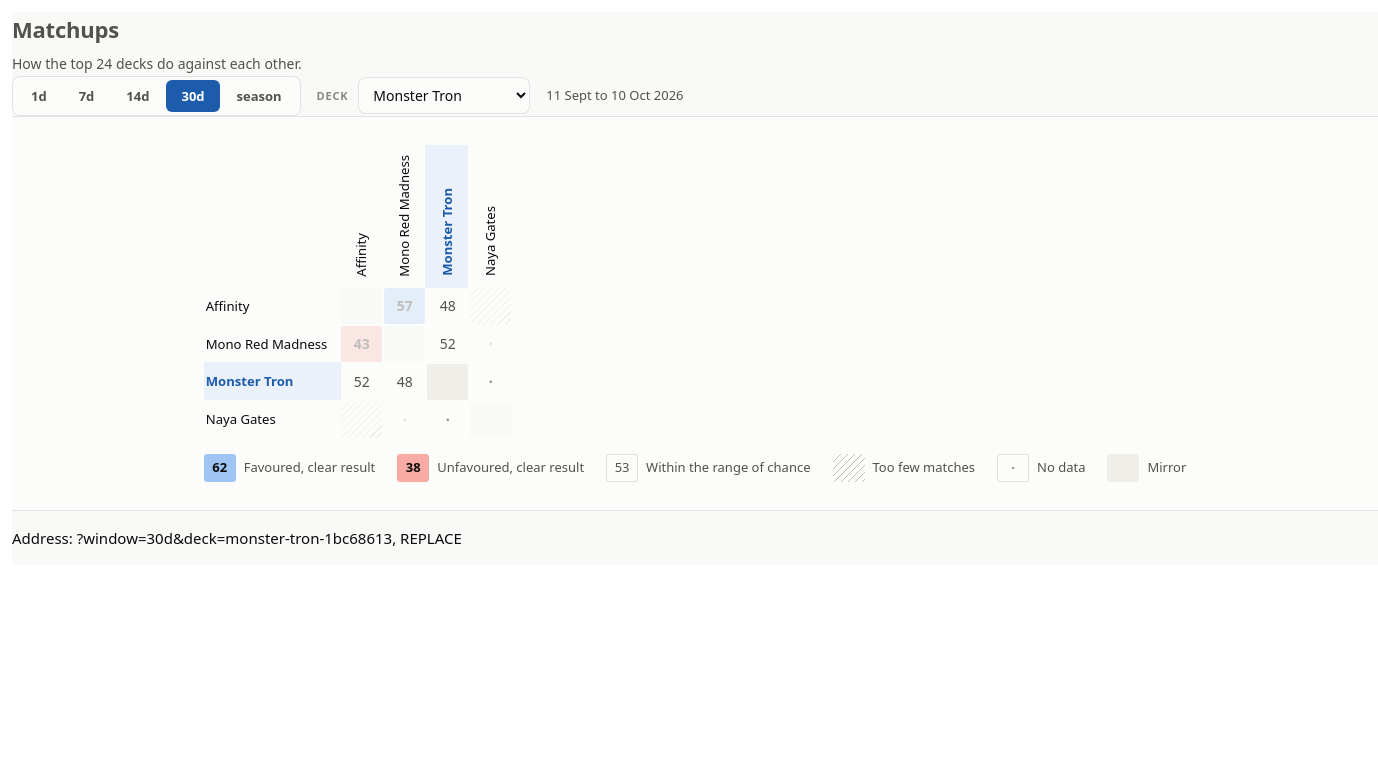
MatchupsPage › keeps the deck through a window change, without revealing it again
This screenshot has width=1378, height=780.
Check: the text "11 Sept to 10 Oct 2026" is shown, box [546,85,684,106]
Click the button "7d": x=87, y=96 [64,80,109,112]
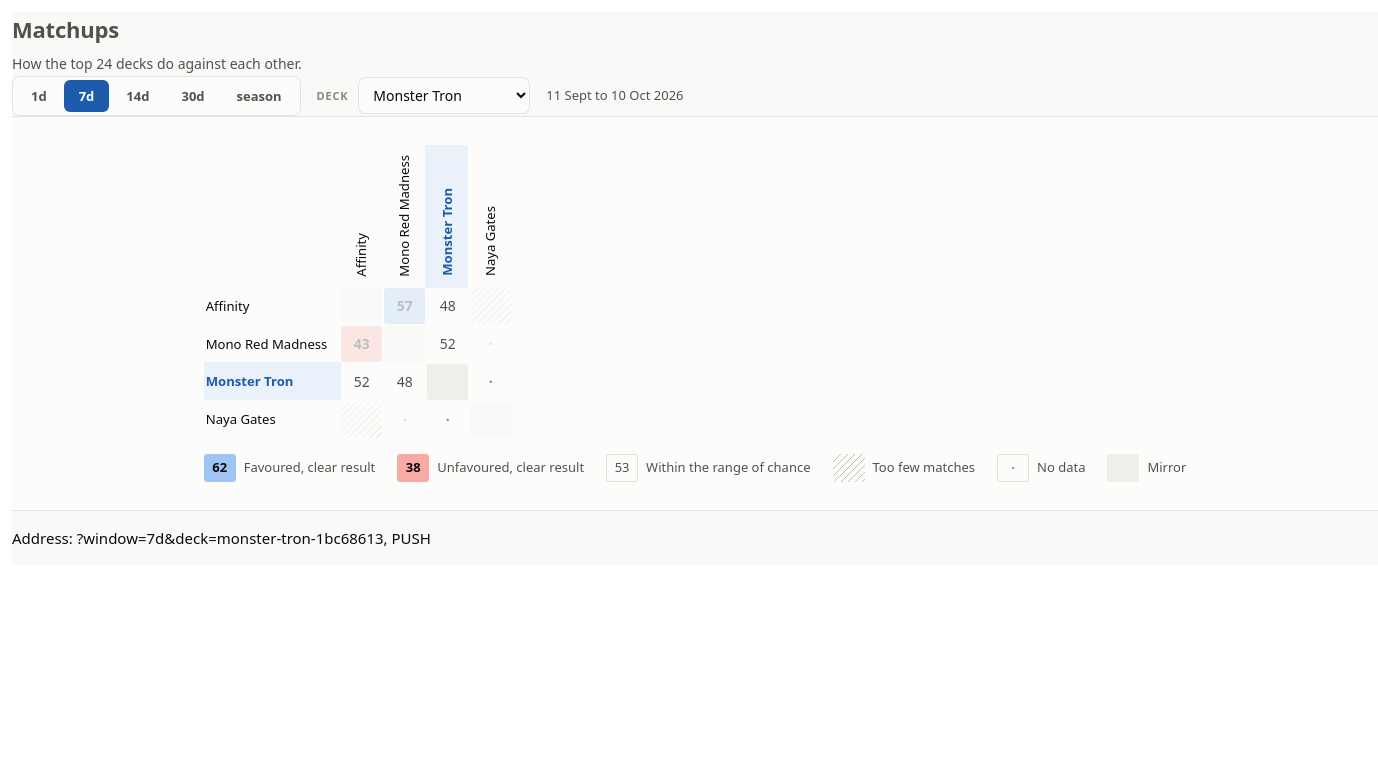
Check: the table named "7d window" is shown, box [204,145,513,440]
Check: the text "Address: ?window=7d&deck=monster-tron-1bc68613, PUSH" is shown, box [12,528,431,548]
